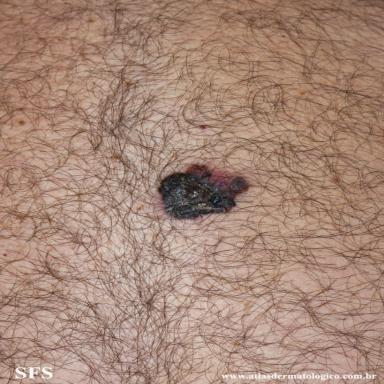Melanoma: (159, 164, 248, 219)
